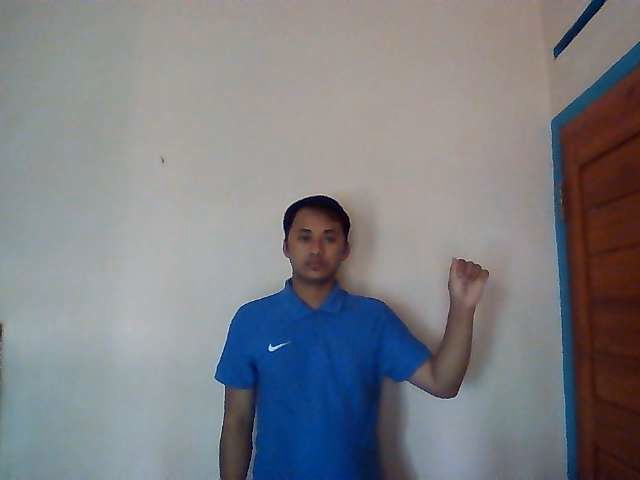A: (447, 257, 490, 303)
